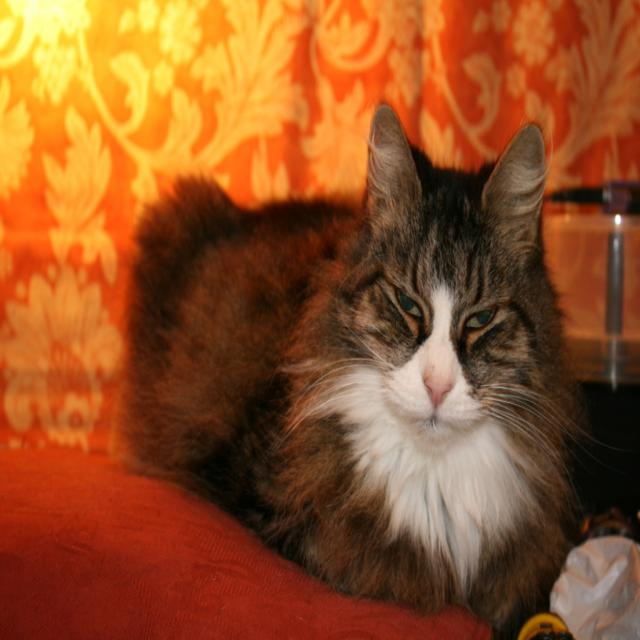Cat: (125, 93, 596, 638)
